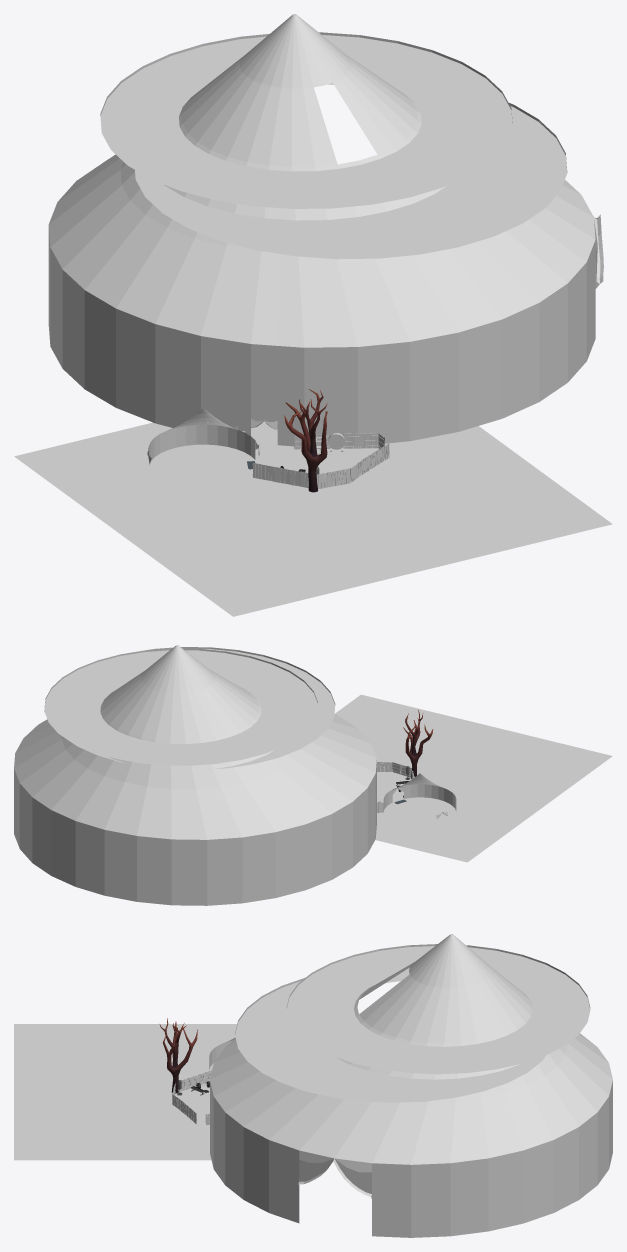
The model's file is circus_layout.glb.
The picture shows the model from 3 angles, top to bottom: view 1: azimuth 30°, elevation 25°; view 2: azimuth 150°, elevation 25°; view 3: azimuth 270°, elevation 25°; orthographic projection. The views are drawn at different scales.
Visible parts, largest first — view 1: Шатер - главный, Plane, Шатер - главный (подмостки, Шатер - главный (подмостки.001, Шатер - гримерка, DeadTree2, Plank.005; view 2: Шатер - главный, Plane, Шатер - главный (подмостки, Шатер - главный (подмостки.001, Шатер - гримерка, DeadTree2; view 3: Шатер - главный, Plane, Шатер - главный (подмостки, Шатер - главный (подмостки.001, DeadTree2.
Boxes of the visible parts, x1=… form: Шатер - главный: x1=48, y1=14, x2=603, y2=446; Plane: x1=14, y1=419, x2=612, y2=616; Шатер - главный (подмостки: x1=100, y1=32, x2=512, y2=208; Шатер - главный (подмостки.001: x1=135, y1=83, x2=567, y2=259; Шатер - гримерка: x1=147, y1=408, x2=259, y2=465; DeadTree2: x1=284, y1=389, x2=327, y2=492; Plank.005: x1=253, y1=462, x2=308, y2=487; Шатер - главный: x1=14, y1=645, x2=376, y2=905; Plane: x1=335, y1=694, x2=612, y2=862; Шатер - главный (подмостки: x1=44, y1=648, x2=317, y2=765; Шатер - главный (подмостки.001: x1=74, y1=647, x2=335, y2=769; Шатер - гримерка: x1=383, y1=773, x2=456, y2=818; DeadTree2: x1=403, y1=710, x2=433, y2=778; Шатер - главный: x1=210, y1=934, x2=612, y2=1237; Plane: x1=14, y1=1024, x2=237, y2=1160; Шатер - главный (подмостки: x1=286, y1=944, x2=590, y2=1074; Шатер - главный (подмостки.001: x1=235, y1=974, x2=545, y2=1102; DeadTree2: x1=159, y1=1018, x2=197, y2=1093.
Size of the model in its own units: 126 by 60.05 by 149.
7 materials, 1 textured.
